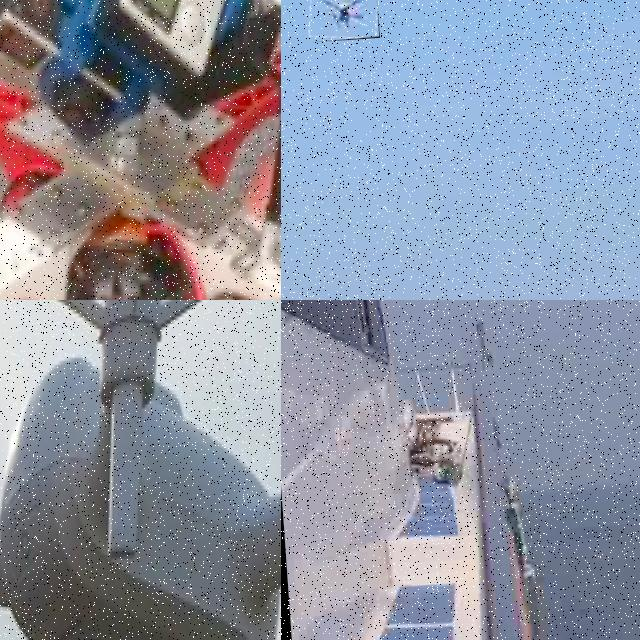0: (307, 0, 380, 42)
drone: (0, 300, 281, 640), (0, 0, 281, 300)
